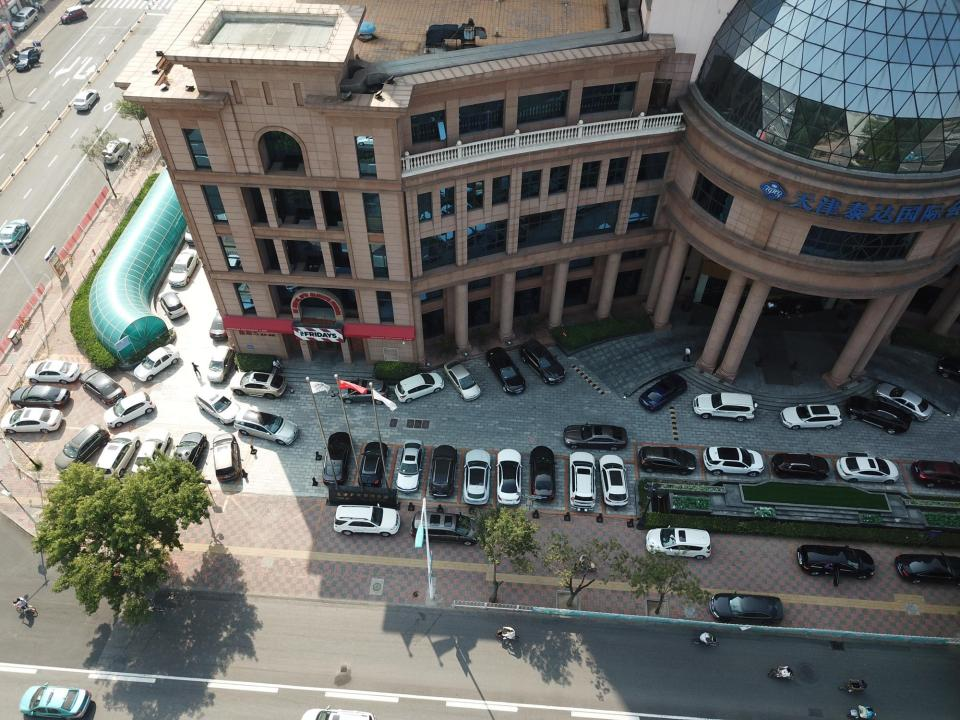car: (797, 544, 874, 586), (19, 682, 91, 720), (55, 423, 110, 472), (846, 395, 912, 435), (411, 511, 485, 545), (709, 591, 783, 625), (234, 408, 299, 445), (874, 382, 933, 422), (645, 525, 711, 560), (333, 503, 400, 537), (94, 432, 140, 481), (894, 552, 960, 585), (520, 338, 565, 384), (693, 391, 758, 422), (103, 391, 156, 428), (485, 346, 526, 393), (168, 432, 207, 481), (562, 422, 627, 451), (638, 374, 687, 412), (702, 446, 764, 476), (132, 430, 170, 478), (194, 387, 240, 426), (0, 406, 64, 434), (133, 343, 179, 381), (638, 445, 696, 475), (79, 368, 126, 405), (836, 456, 898, 484), (462, 448, 492, 505), (771, 452, 829, 481), (779, 404, 842, 430), (230, 370, 286, 399), (10, 384, 70, 411), (322, 432, 352, 486), (569, 452, 596, 511), (429, 444, 458, 497), (396, 439, 424, 493), (444, 359, 480, 401), (496, 448, 523, 504), (528, 446, 556, 500), (394, 373, 444, 403), (599, 455, 628, 506), (911, 459, 960, 489), (210, 433, 240, 481), (358, 441, 388, 489), (24, 360, 80, 385), (336, 378, 388, 404), (299, 704, 375, 720), (168, 248, 198, 286), (208, 345, 234, 382), (157, 290, 188, 320), (0, 218, 29, 248), (9, 46, 41, 72), (184, 211, 207, 247), (210, 303, 231, 340), (102, 138, 131, 164), (11, 6, 38, 30), (74, 89, 100, 110), (60, 4, 87, 24), (939, 356, 960, 378)
